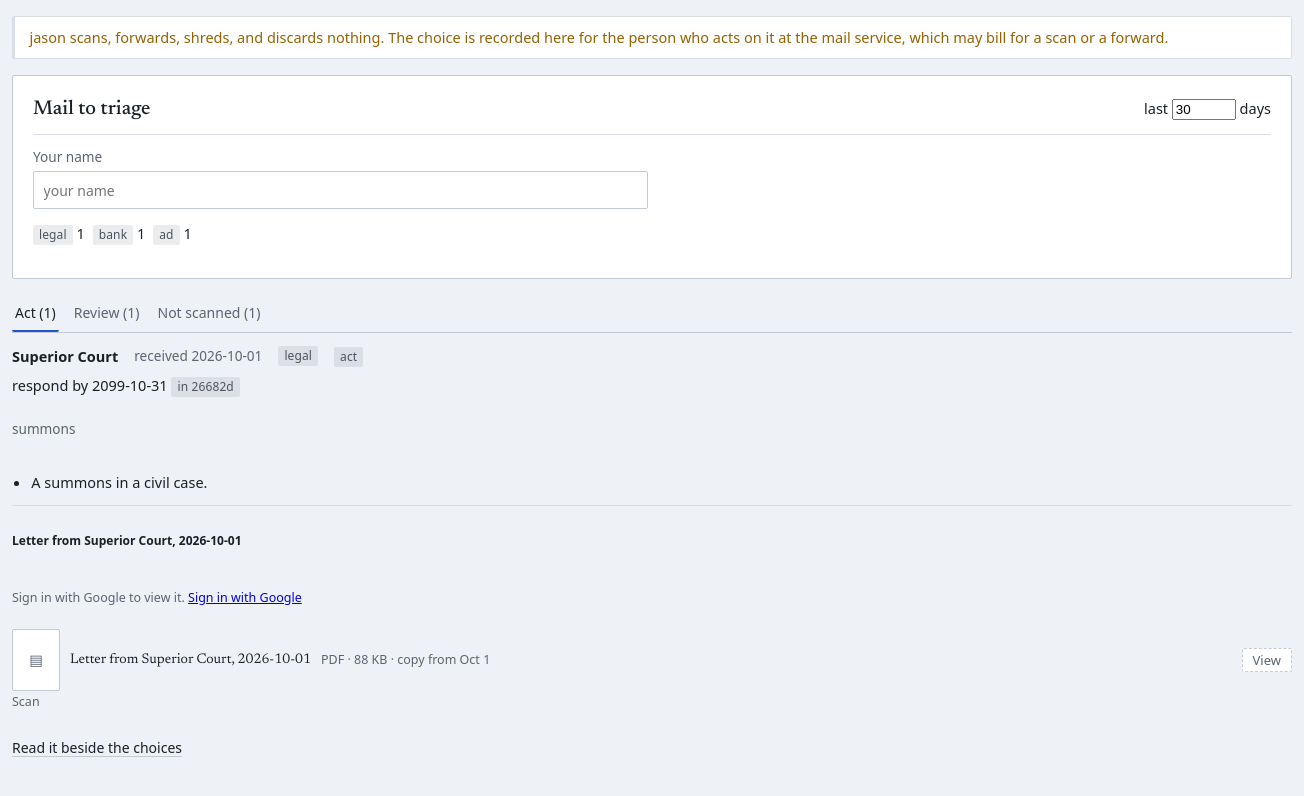
Test: MailTriageView › cancels a choice without posting
Expected: the text "Superior Court" is shown, [12, 346, 118, 367]
Type "T" into the field with placeholder "Your name" at point(340, 190), box [33, 171, 648, 209]
(page scrolled)
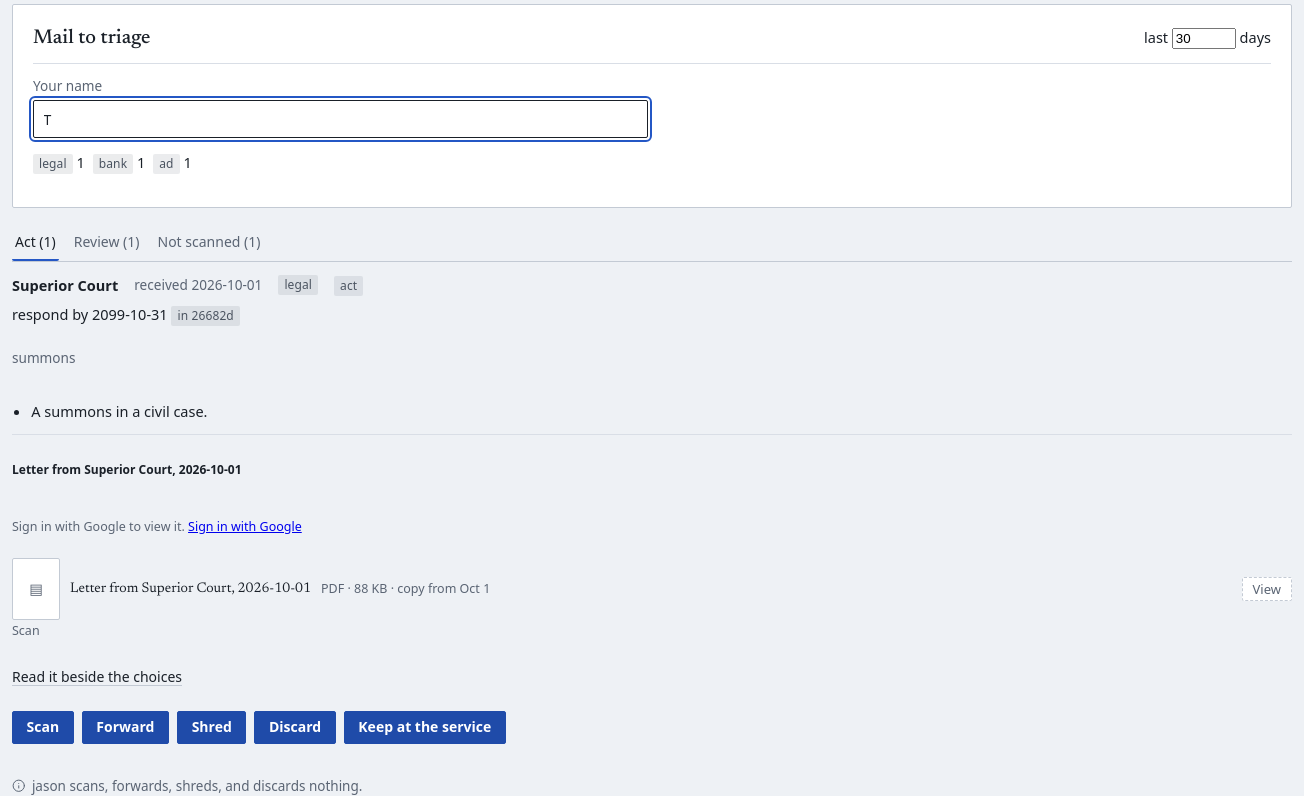
Click the button "Shred" at point(212, 727), box [177, 711, 246, 744]
(page scrolled)
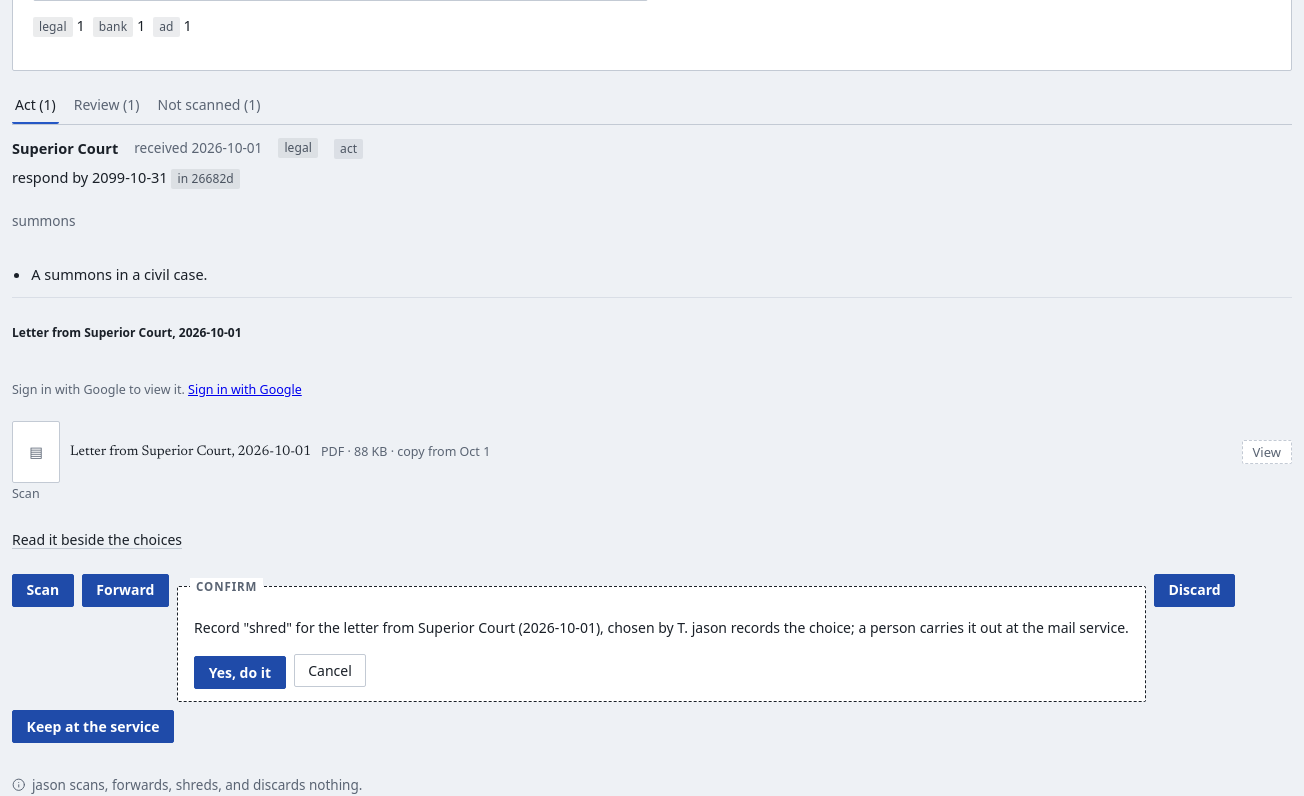
Click the button "Cancel" at point(330, 671), box [294, 654, 366, 687]
(page scrolled)
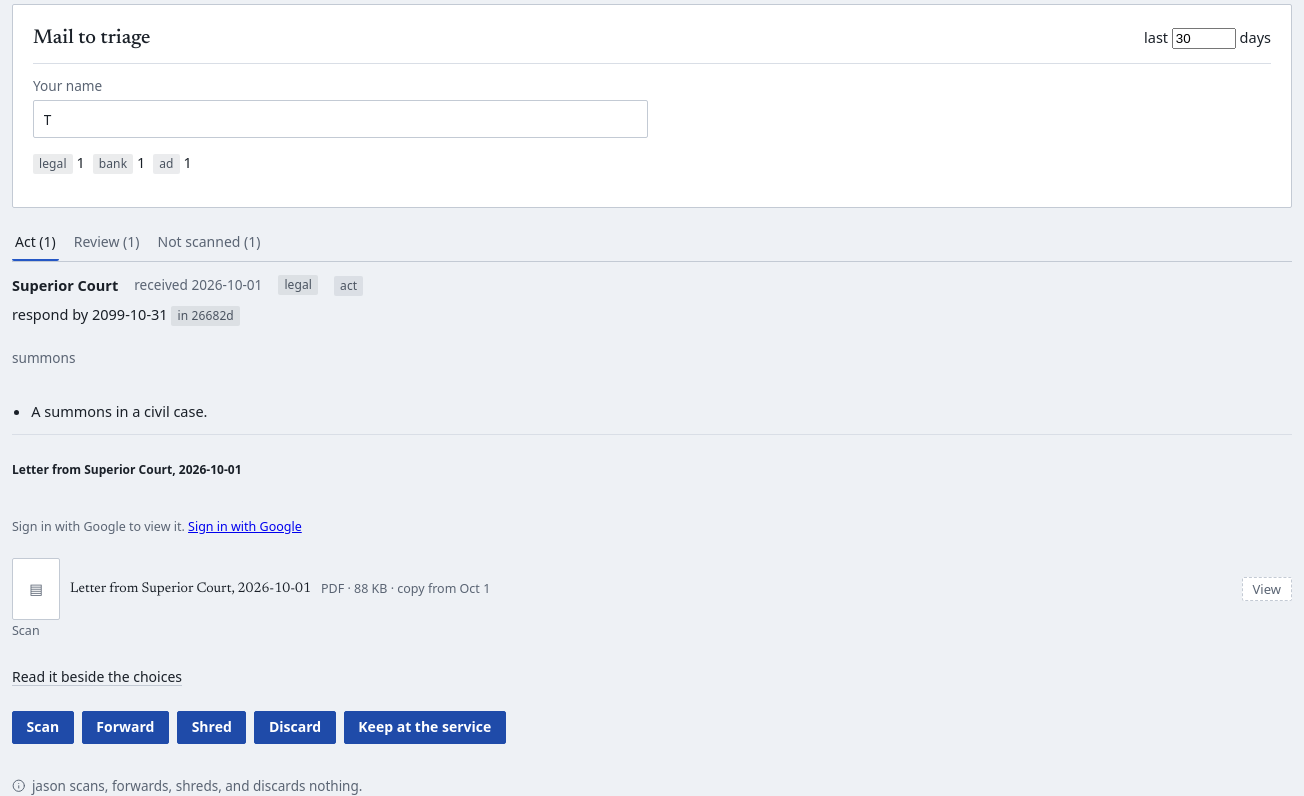
Expected: the text "Confirm" is gone
